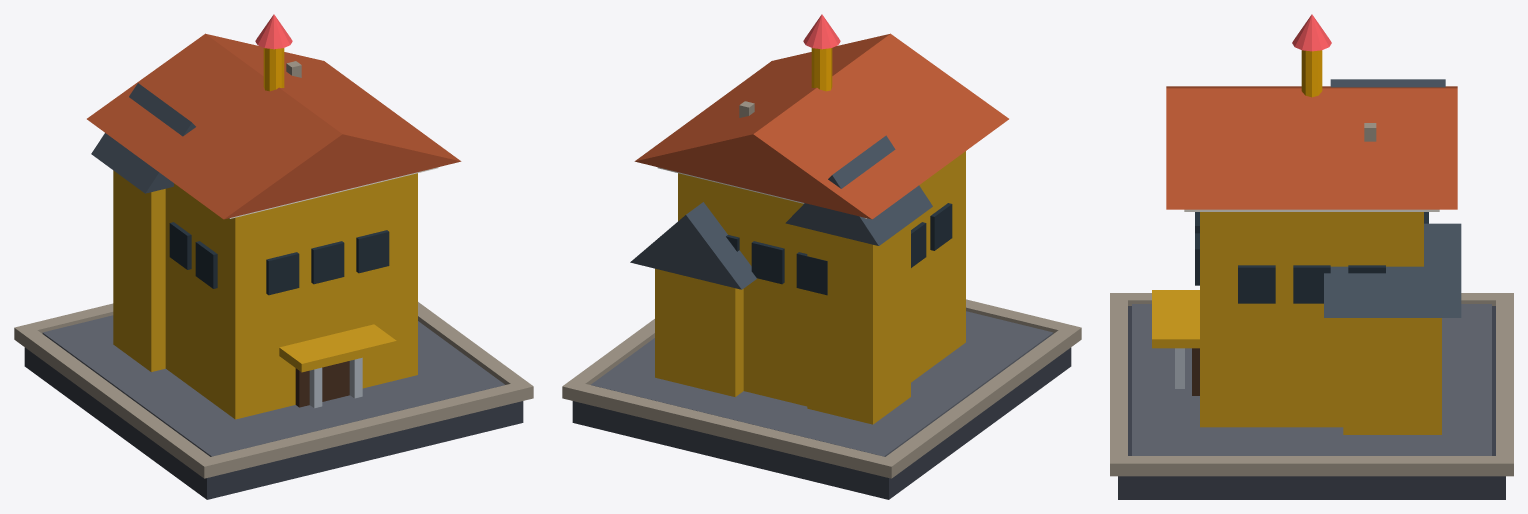
File: city.house_4.glb
3 renders of one model, left to right at view 1: azimuth 30°, elevation 25°; view 2: azimuth 150°, elevation 25°; view 3: azimuth 270°, elevation 25°, orthographic. The views are drawn at different scales.
Visible parts, largest first — view 1: city.house_4; view 2: city.house_4; view 3: city.house_4.
Part boxes in pixels (x1=…): city.house_4: x1=14, y1=14, x2=533, y2=499; city.house_4: x1=562, y1=14, x2=1081, y2=499; city.house_4: x1=1110, y1=14, x2=1513, y2=499.
Bounding box in the file's own units: 2.02 × 2.23 × 2.02.
